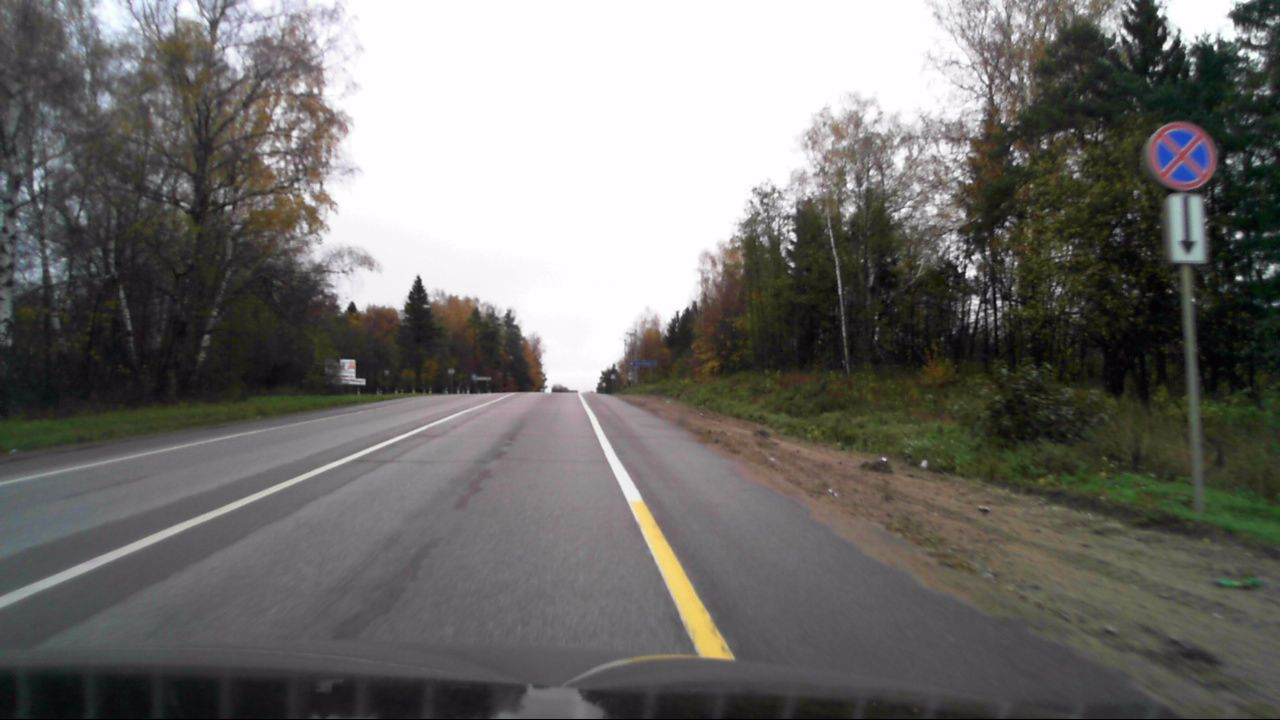No Parking: (1145, 122, 1215, 192)
